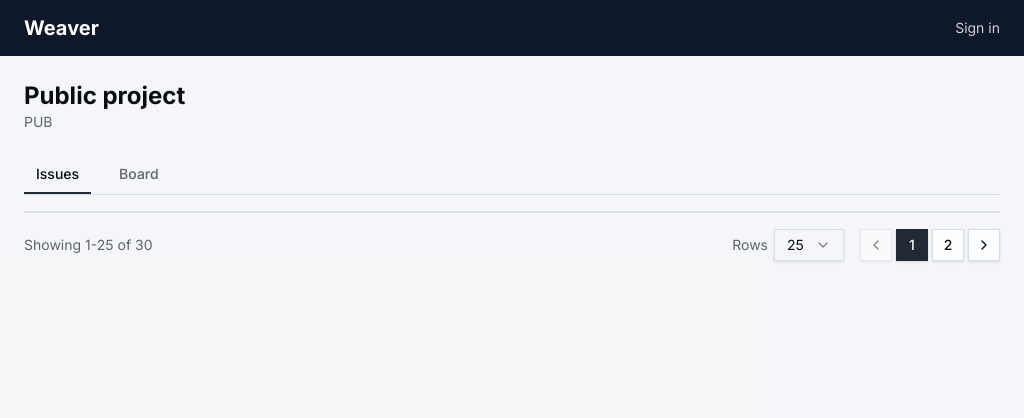
Test: lets a visitor reach the next board page and makes partial counts explicit
Click the button "board" at (139, 175), box [107,156,171,194]
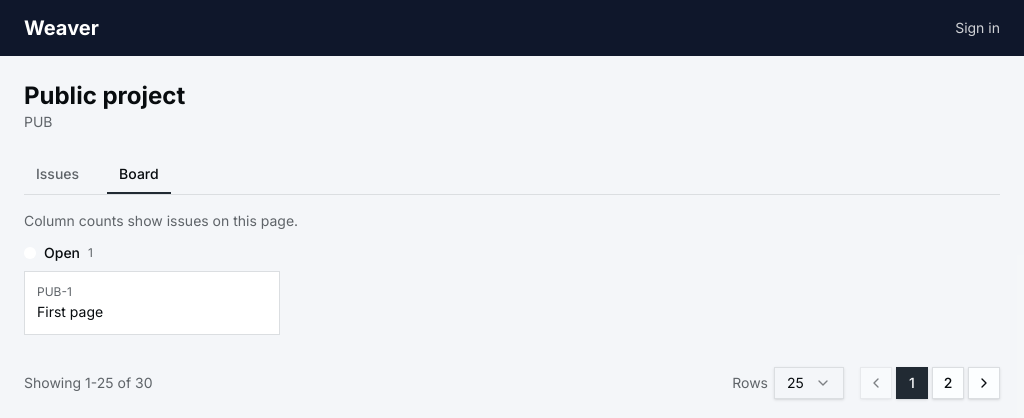
Result: the text "Column counts show issues on this page." is shown at [24,212,298,229]
Click the button named "next" at (984, 383), box [968,367,1000,399]
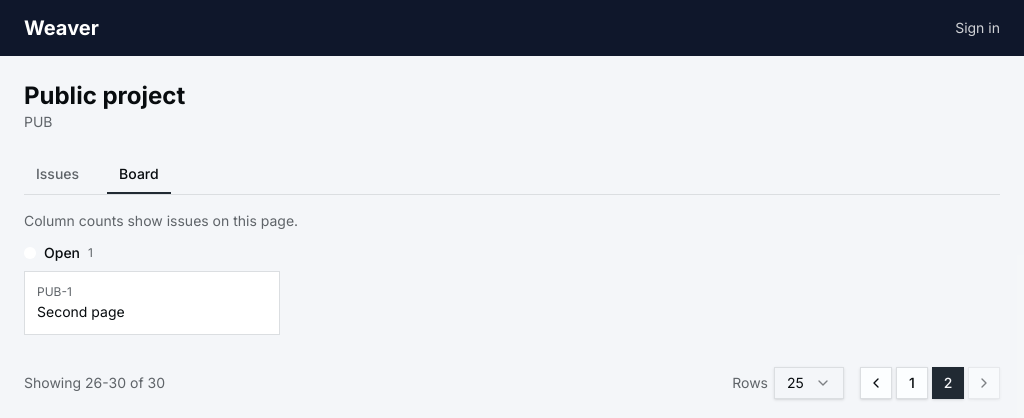
Result: the text "Second page" is shown at [37,303,125,320]
